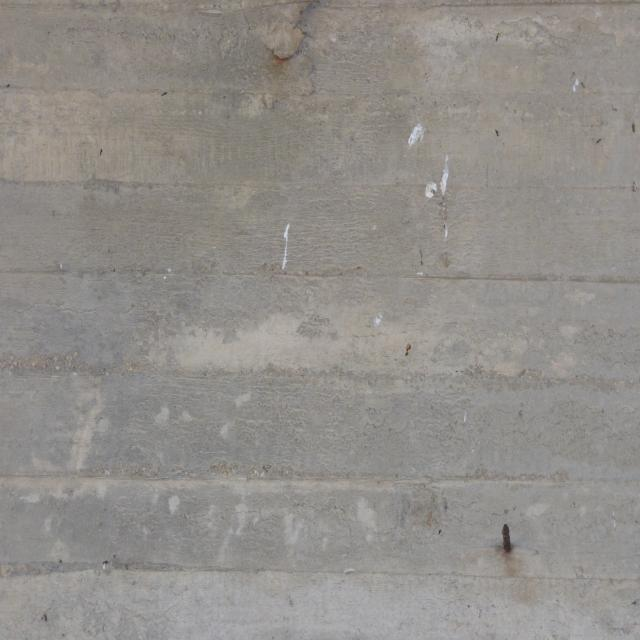corrosion: (487, 512, 529, 576), (275, 51, 292, 66)
